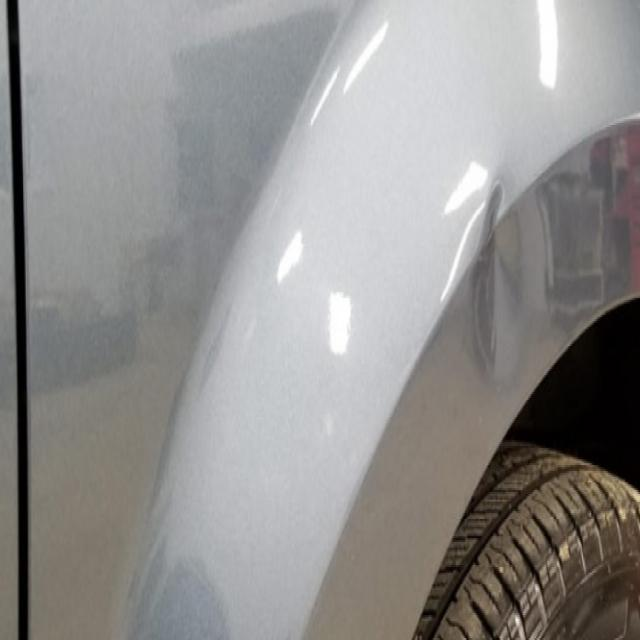dents: (455, 156, 535, 382)
